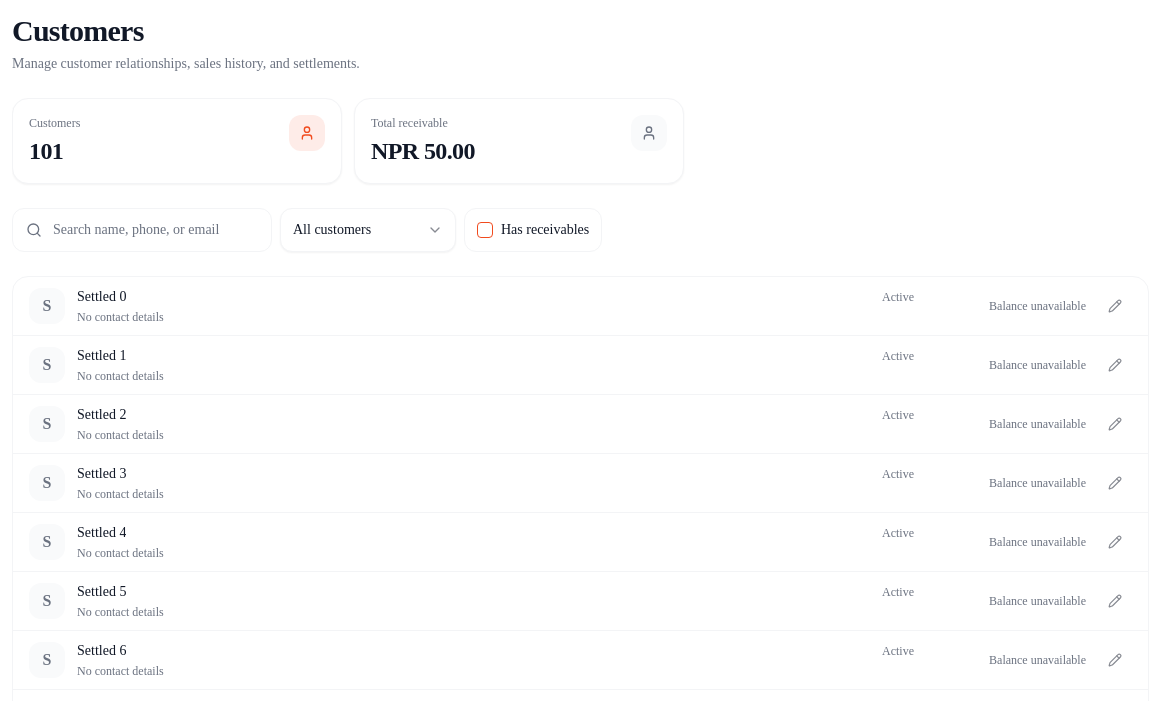
it: receivables filter finds later-page customers and combines with search
The image size is (1164, 701).
Click the checkbox named "Has receivables". click: (485, 230)
box: [477,222,493,238]
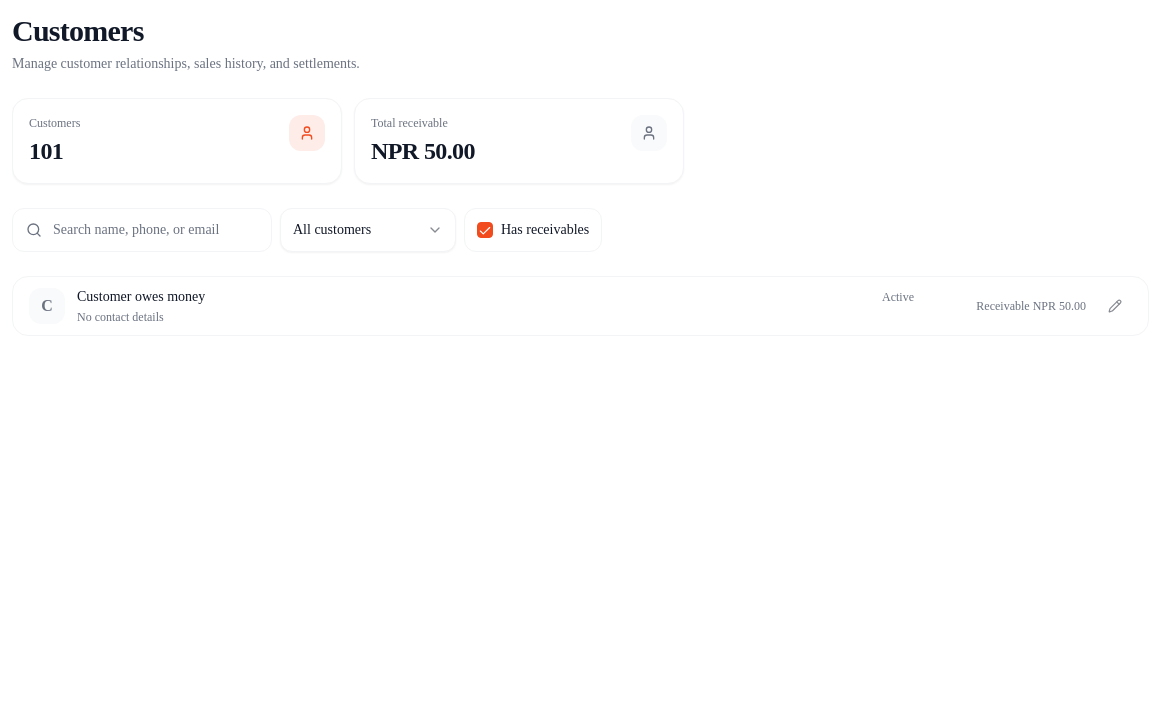
Expected: the text "Settled 1" is gone
Type "no match" into the search field with placeholder "Search name, phone, or email". click: (142, 230)
box: [12,208,272,252]
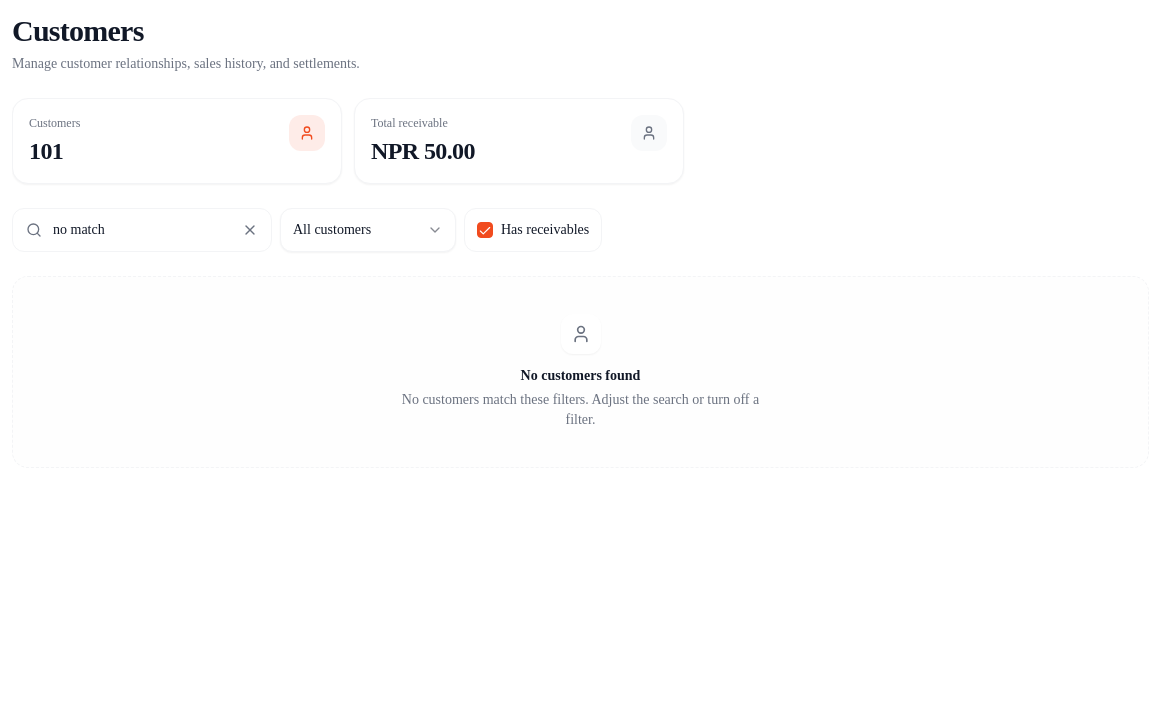
Expected: the text "Customer owes money" is gone
Expected: the heading "No customers found" is shown, [521,366,640,386]
